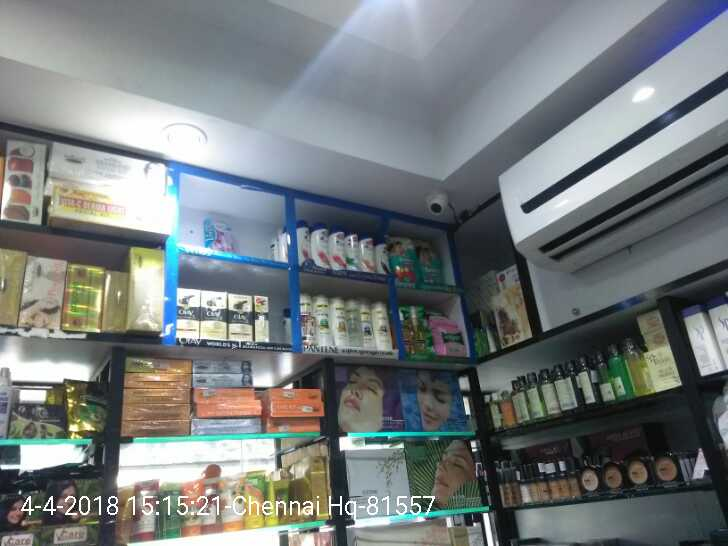venus: (206, 218, 236, 250)
